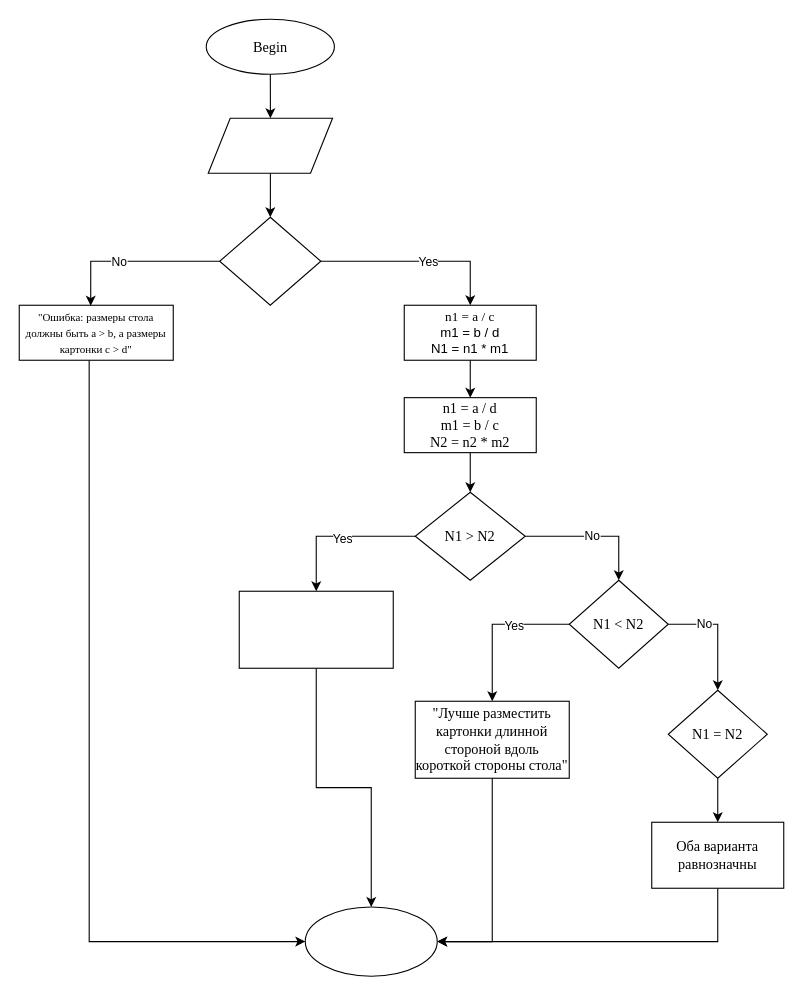
Some shapes in this 803 by 996 pixel diagram are drawn without their labels. Here are the shapes that lost their labels. From the top down, the centre of each, then its label:
point (270, 145): a, b, c, d
point (270, 260): a > b & c > d
point (315, 629): "Лучше разместить картонки длинной стороной вдоль длинной стороны стола"
point (370, 941): End
